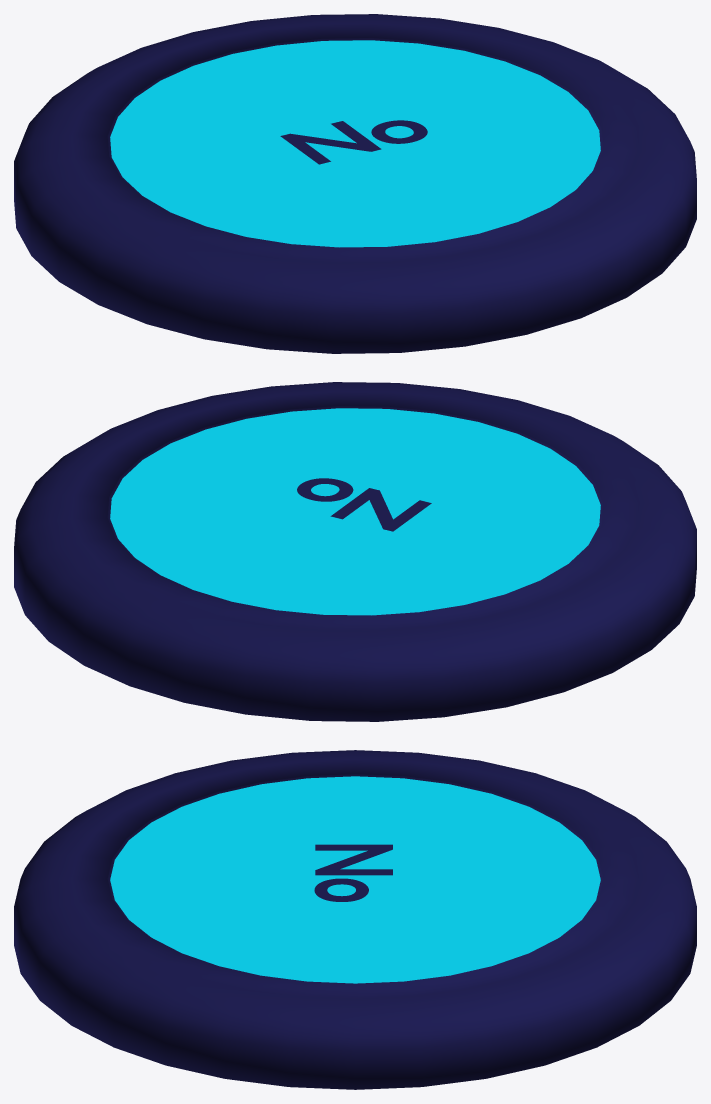
File: No丸ボタン.fbx
3 views of the same model, one above another, from view 1: azimuth 30°, elevation 25°; view 2: azimuth 150°, elevation 25°; view 3: azimuth 270°, elevation 25° (orthographic).
Parts seen in each view (by area): view 1: 円柱, 円, テキスト; view 2: 円柱, 円, テキスト; view 3: 円柱, 円, テキスト.
Part boxes in pixels (x1,y1,x2,y2): 円柱: (14, 14, 696, 353); 円: (110, 40, 600, 247); テキスト: (280, 120, 427, 164); 円柱: (14, 382, 696, 721); 円: (110, 408, 600, 615); テキスト: (297, 478, 431, 531); 円柱: (14, 750, 696, 1089); 円: (110, 776, 600, 983); テキスト: (314, 844, 392, 901).
Bounding box in the file's own units: 200 × 23.69 × 200.
